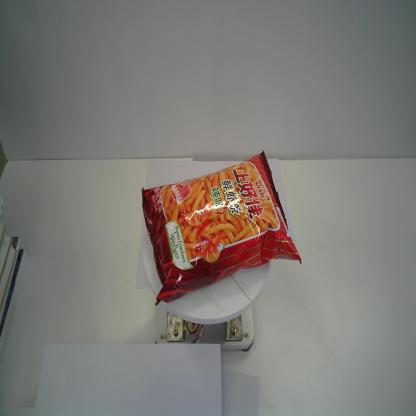Puffed Food: (142, 150, 302, 307)
